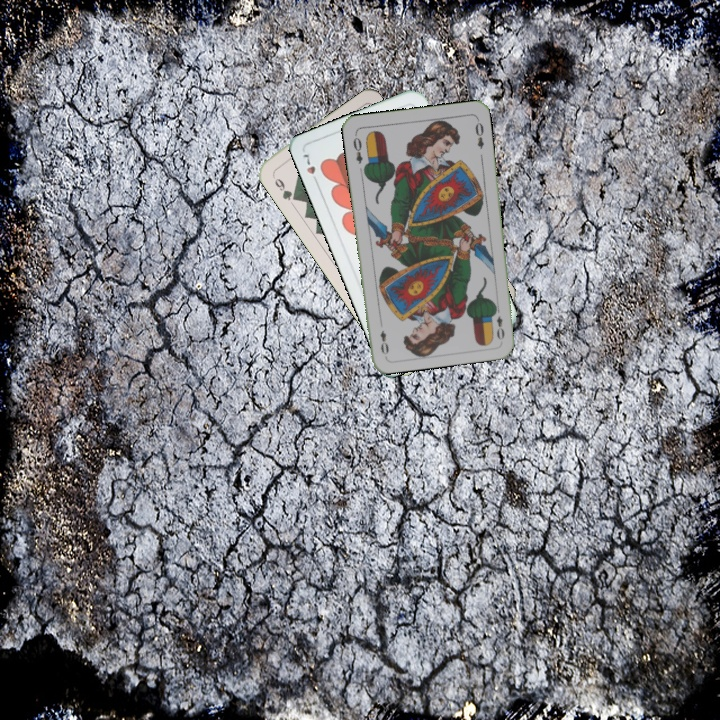EO: (490, 302, 507, 342), (349, 130, 365, 166)
G9: (268, 170, 300, 203)
H7: (299, 150, 321, 187)
